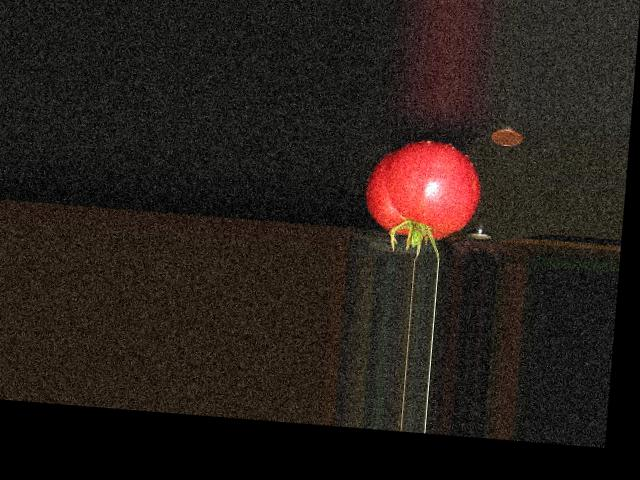tomato: (361, 135, 483, 242)
